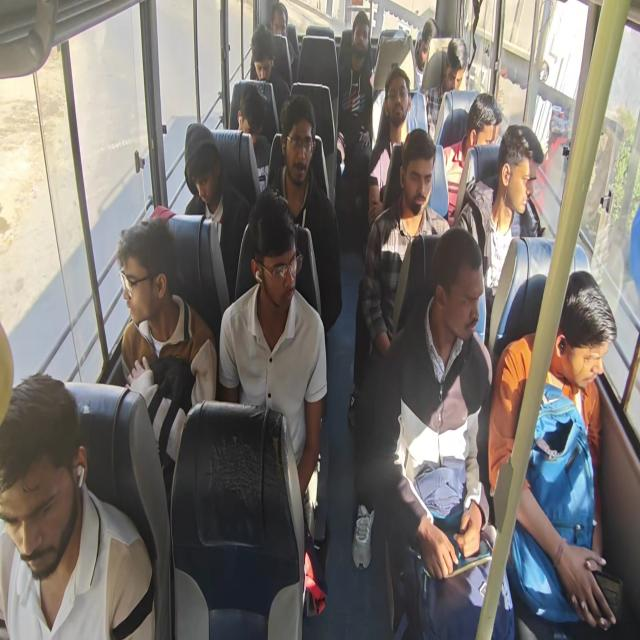person: (0, 371, 85, 578), (243, 221, 327, 337), (548, 289, 618, 398), (106, 224, 158, 327), (439, 241, 484, 344), (176, 103, 222, 198), (499, 141, 546, 223), (403, 124, 434, 214), (284, 114, 320, 191), (467, 93, 500, 156), (341, 9, 373, 64), (238, 87, 263, 149), (414, 12, 439, 70), (384, 71, 408, 125), (249, 42, 279, 85), (444, 42, 466, 94), (269, 9, 290, 42)
